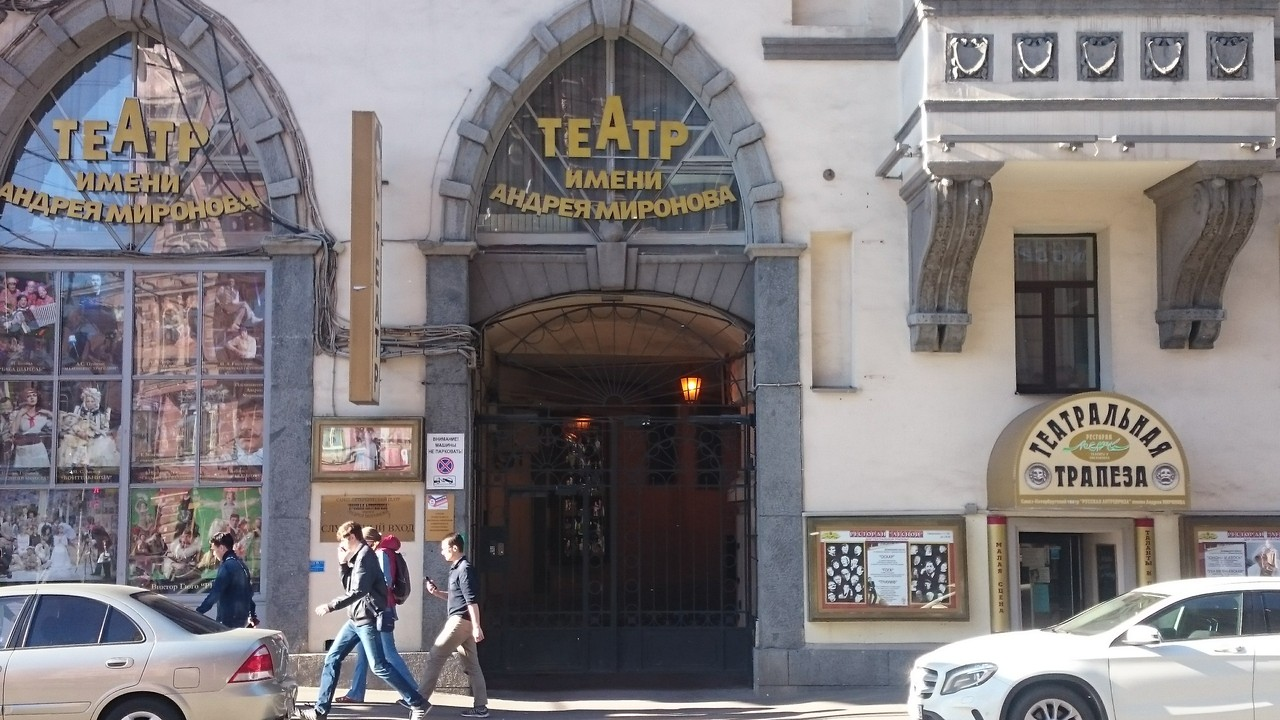arch: (473, 290, 757, 699)
cantilever: (345, 102, 392, 407)
signboard: (486, 94, 736, 225), (1, 99, 260, 225), (1016, 398, 1177, 505)
window: (1013, 232, 1101, 391)
